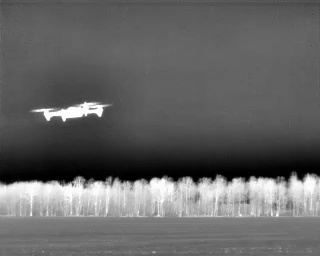DRONE: (27, 95, 117, 130)
